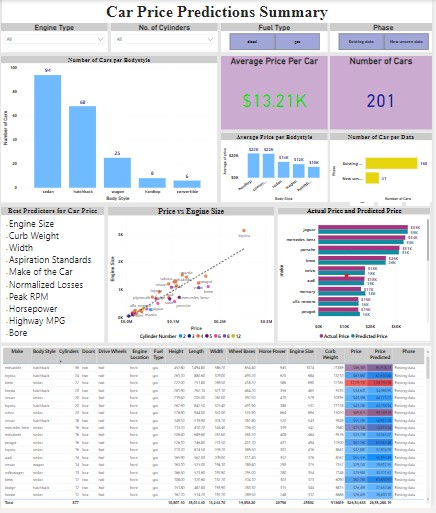

The page's visual inventory and layout, read from the dashboard file:
{"tool":"powerbi","page":{"name":"Page 1","canvas":[1280,1500],"ordinal":0},"visuals":[{"type":"textbox","box":[10.4,0,1269.6,67.9],"z":0},{"type":"slicer","title":"No. of Cylinders","fields":{"Values":["car_prediction_output.number_of_cylinders"]},"box":[333.6,68,315,86.5],"z":1000},{"type":"slicer","title":"Engine Type","fields":{"Values":["car_prediction_output.engine_type"]},"box":[9.9,68,315,86.5],"z":2000},{"type":"slicer","title":"Phase","fields":{"Values":["car_prediction_output.Phase"]},"box":[979.5,68,315,86.5],"z":3000},{"type":"slicer","title":"Fuel Type","fields":{"Values":["car_prediction_output.fuel_type"]},"box":[657.2,68,315,86.5],"z":4000},{"type":"columnChart","title":"Number of Cars per Bodystyle","fields":{"Category":["car_prediction_output.body_style"],"Y":["car_prediction_output.car_ID"]},"box":[9.9,164.4,637.9,432.3],"z":5000},{"type":"card","title":"Average Price Per Car","fields":{"Values":["car_prediction_output.price"]},"box":[657.7,164.4,314.7,216.9],"z":6000},{"type":"card","title":"Number of Cars","fields":{"Values":["car_prediction_output.car_ID"]},"box":[979.5,164.4,300.5,216.9],"z":7000},{"type":"columnChart","title":"Average Price per Bodystyle","fields":{"Category":["car_prediction_output.body_style"],"Y":["car_prediction_output.price"]},"box":[657.7,392.6,314.7,204.1],"z":8000},{"type":"textbox","title":"Best Predictors for Car Price","box":[9.9,610.9,304.8,399.7],"z":10000},{"type":"scatterChart","title":"Price vs Engine Size","fields":{"Y":["car_prediction_output.engine_size"],"X":["car_prediction_output.price"],"Category":["car_prediction_output.make"],"Series":["car_prediction_output.number_of_cylinders"]},"box":[324.6,610.9,490.5,399.7],"z":11000},{"type":"clusteredBarChart","title":"Actual Price and Predicted Price","fields":{"Category":["car_prediction_output.make"],"Y":["car_prediction_output.price","car_prediction_output.Price Prediction"]},"box":[825,610.9,455,399.7],"z":12000},{"type":"barChart","title":"Number of Car per Data","fields":{"Category":["car_prediction_output.Phase"],"Y":["car_prediction_output.car_ID"]},"box":[979.5,392.6,300.5,204.1],"z":12001},{"type":"tableEx","fields":{"Values":["car_prediction_output.make","car_prediction_output.body_style","car_prediction_output.number_of_cylinders","car_prediction_output.number_of_doors","car_prediction_output.drive_wheels","car_prediction_output.engine_location","car_prediction_output.fuel_type","car_prediction_output.height","car_prediction_output.length","car_prediction_output.width","car_prediction_output.wheel_base","car_prediction_output.horsepower"]},"box":[9.9,1020.6,1270.1,479.1],"z":12002}]}

Visuals, with their boxes in screenshot pixels (x1, y1, x2, y2), scaled from the page's 1280x1500 canvas onto the 436x513 screenshot:
textbox: locate(4, 0, 435, 23)
"No. of Cylinders" slicer: locate(114, 23, 221, 53)
"Engine Type" slicer: locate(3, 23, 111, 53)
"Phase" slicer: locate(334, 23, 435, 53)
"Fuel Type" slicer: locate(224, 23, 331, 53)
"Number of Cars per Bodystyle" columnChart: locate(3, 56, 221, 204)
"Average Price Per Car" card: locate(224, 56, 331, 130)
"Number of Cars" card: locate(334, 56, 435, 130)
"Average Price per Bodystyle" columnChart: locate(224, 134, 331, 204)
"Best Predictors for Car Price" textbox: locate(3, 209, 107, 346)
"Price vs Engine Size" scatterChart: locate(111, 209, 278, 346)
"Actual Price and Predicted Price" clusteredBarChart: locate(281, 209, 435, 346)
"Number of Car per Data" barChart: locate(334, 134, 435, 204)
tableEx - car_prediction_output.make x car_prediction_output.body_style: locate(3, 349, 435, 512)
